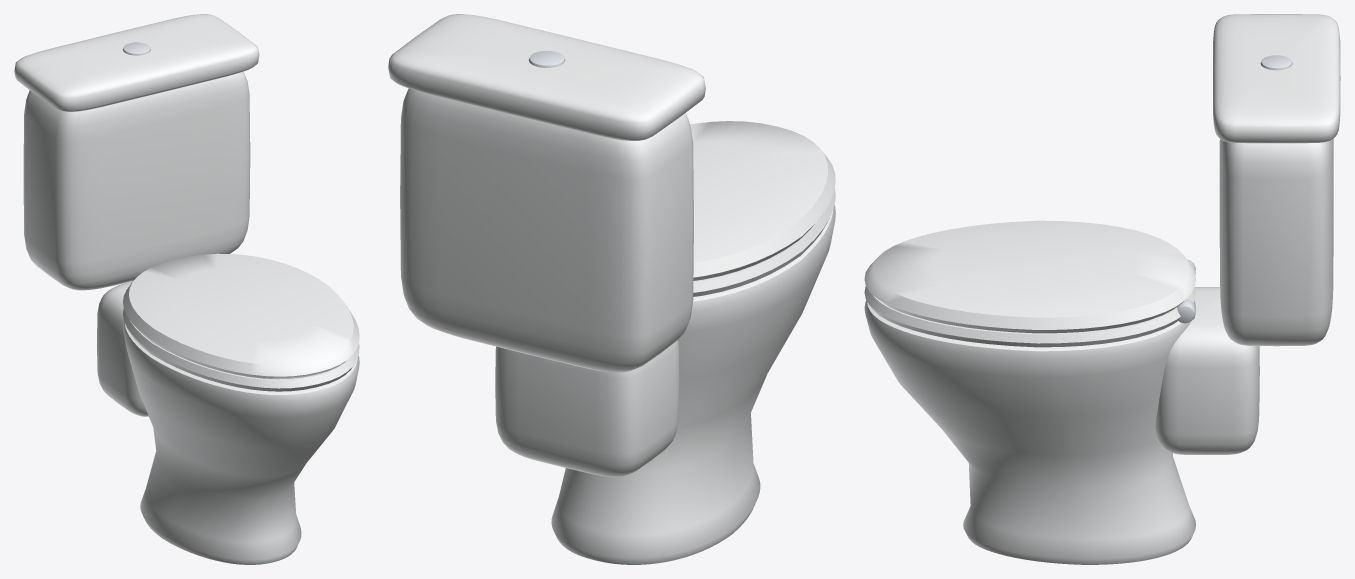
File: vaso_caixa_redondo_branco.glb
3 views of the same model, side by side, from view 1: azimuth 30°, elevation 25°; view 2: azimuth 150°, elevation 25°; view 3: azimuth 270°, elevation 25° (orthographic). The views are drawn at different scales.
Visible parts, largest first — view 1: vaso_caixa_redondo_branco, tampa, assento; view 2: vaso_caixa_redondo_branco, tampa, assento; view 3: vaso_caixa_redondo_branco, tampa, assento.
Boxes of the visible parts, x1=… form: vaso_caixa_redondo_branco: x1=14, y1=14, x2=359, y2=564; tampa: x1=123, y1=253, x2=359, y2=379; assento: x1=123, y1=308, x2=359, y2=391; vaso_caixa_redondo_branco: x1=388, y1=14, x2=835, y2=564; tampa: x1=690, y1=121, x2=835, y2=280; assento: x1=693, y1=188, x2=835, y2=296; vaso_caixa_redondo_branco: x1=864, y1=14, x2=1340, y2=564; tampa: x1=864, y1=220, x2=1195, y2=333; assento: x1=864, y1=286, x2=1195, y2=347.
Bounding box in the file's own units: 0.4 × 0.774 × 0.7085.
Materials: 1 (1 with a texture image).
